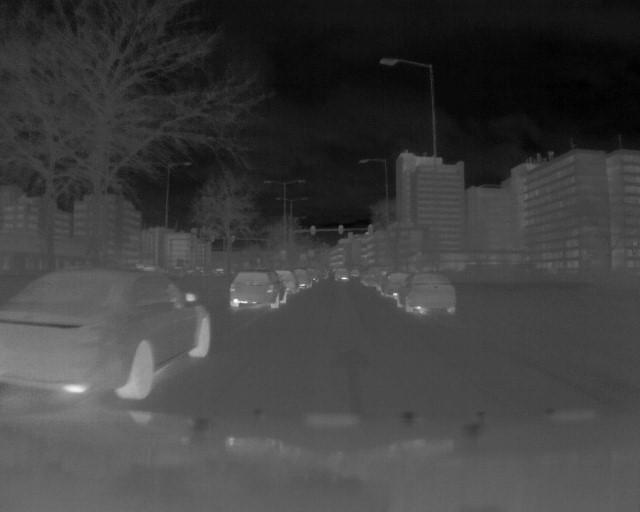car: (3, 264, 215, 403), (396, 270, 459, 316), (228, 268, 289, 310)
